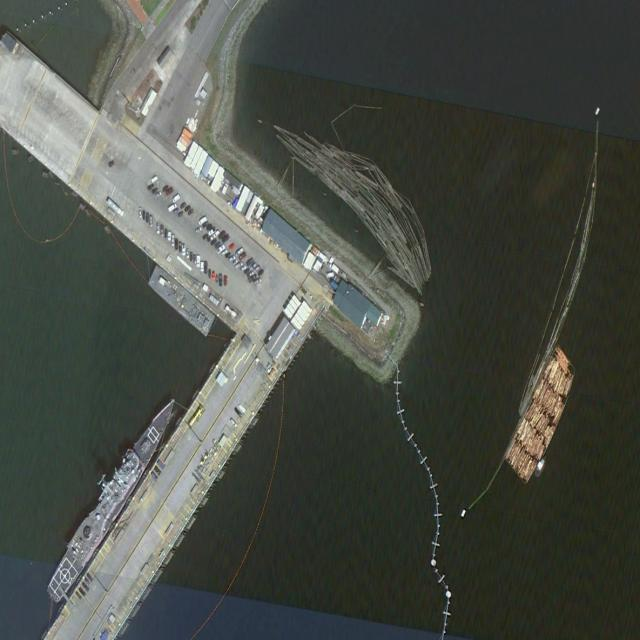Frigate: (42, 389, 184, 606)
